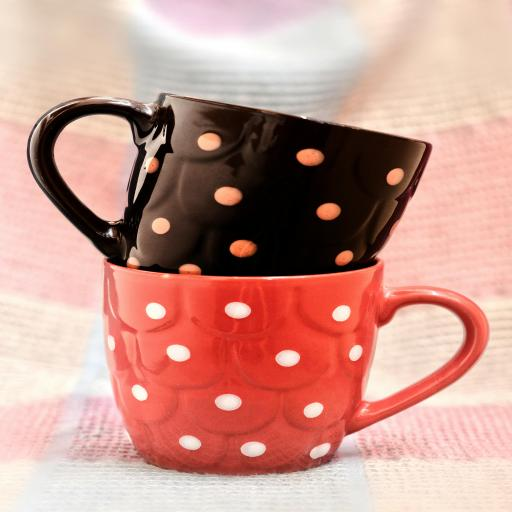phone: (103, 258, 489, 477)
